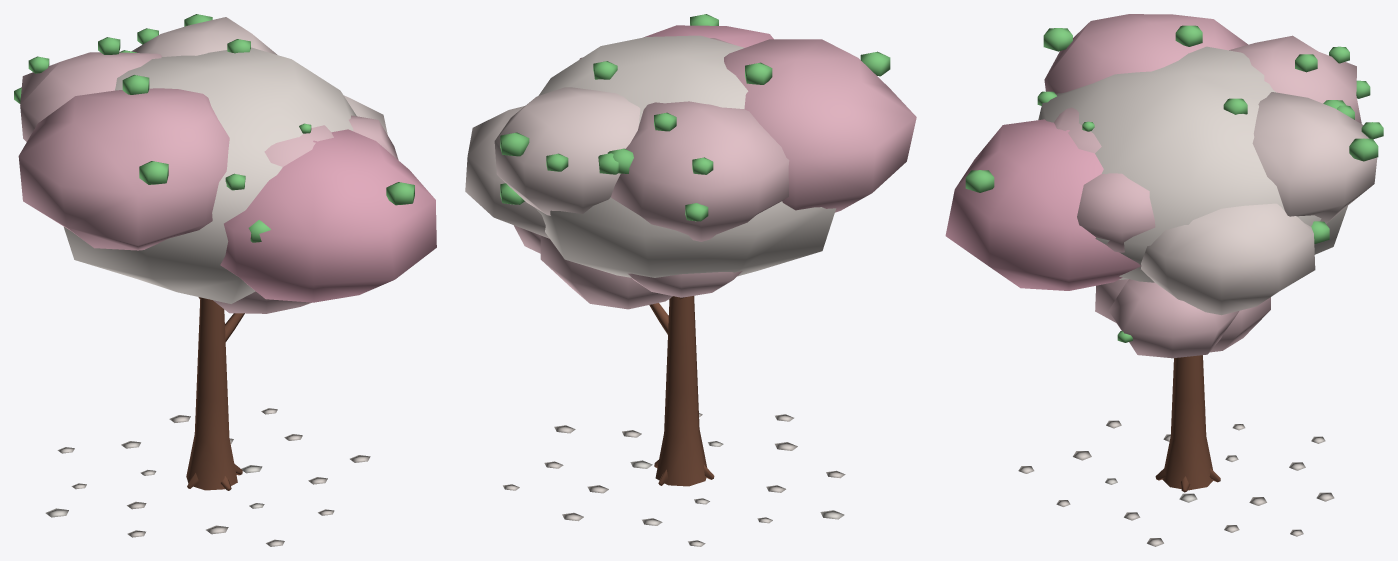
File: flora_tree_apple_blossom.gltf
The picture shows the model from 3 angles, left to right: view 1: azimuth 30°, elevation 25°; view 2: azimuth 150°, elevation 25°; view 3: azimuth 270°, elevation 25°; orthographic projection. The views are drawn at different scales.
Visible parts, largest first — view 1: flora_tree_apple_blossom; view 2: flora_tree_apple_blossom; view 3: flora_tree_apple_blossom.
Boxes of the visible parts, box(x1,y1,x2,y2) form: flora_tree_apple_blossom: box(14, 14, 436, 546); flora_tree_apple_blossom: box(465, 14, 916, 546); flora_tree_apple_blossom: box(945, 14, 1383, 546).
Size of what is drawn, in the model's own units: 5.54 by 5.9 by 5.59.
